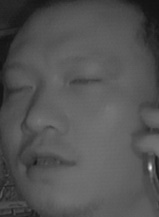mouth: (19, 143, 76, 181)
